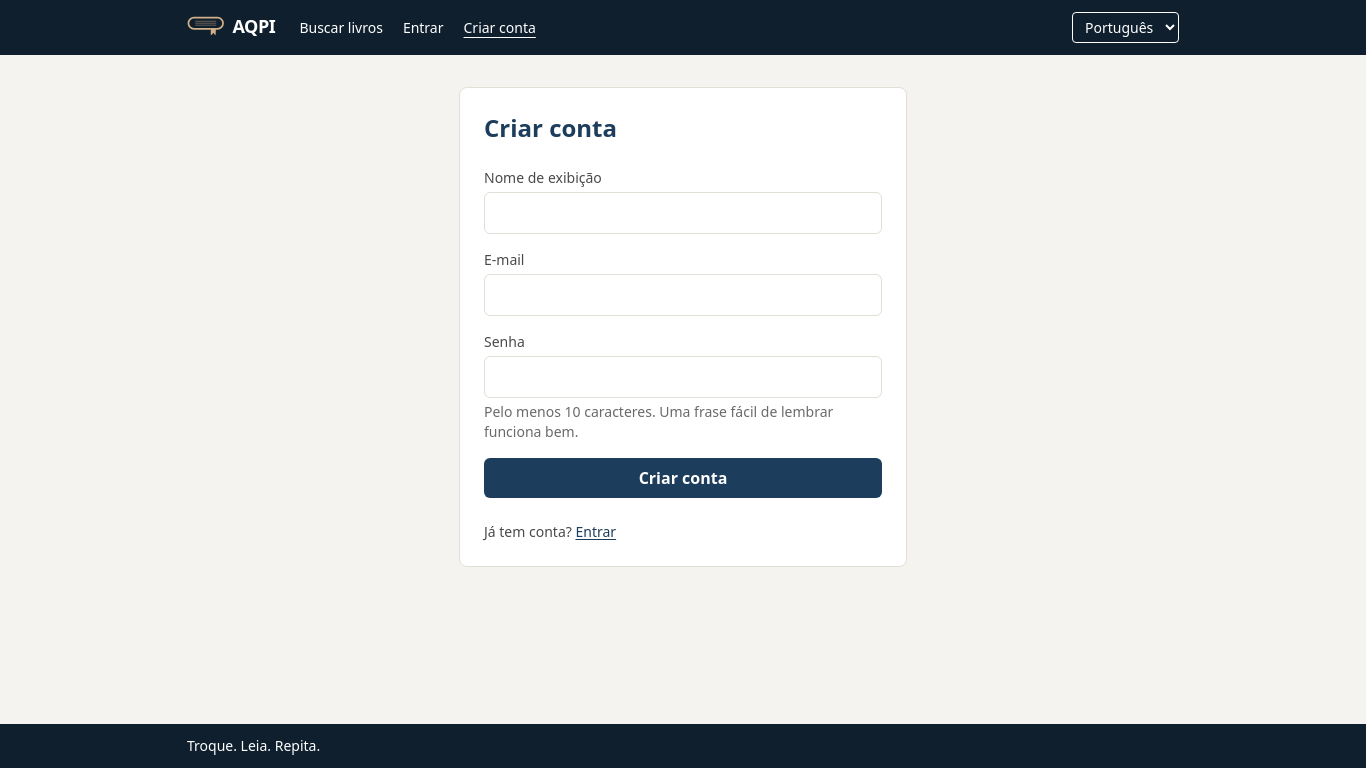
Test: registration › mirrors the server password rule on the client
Step 1. Type "short" into the password field labelled "Senha" → [683, 377], box [484,356,882,398]
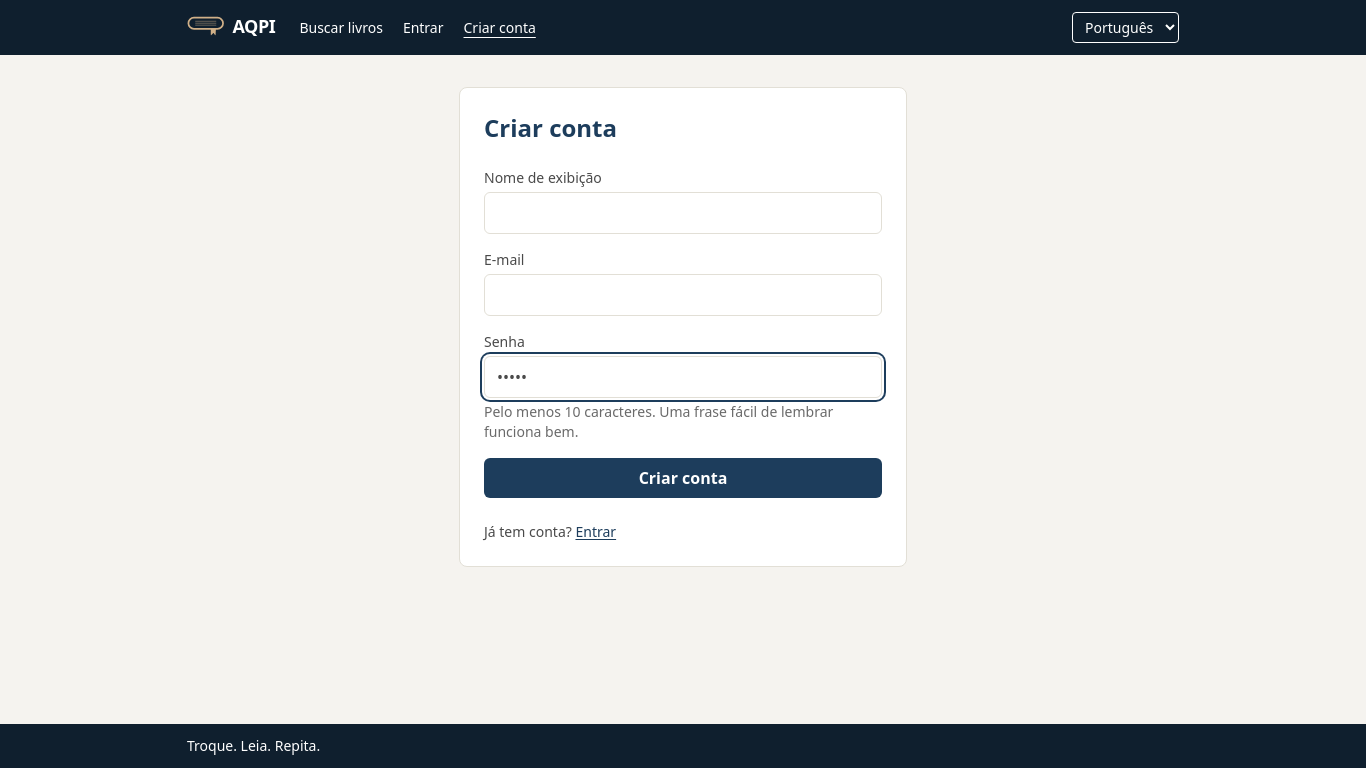
Step 2. Click the button "Criar conta" → [683, 478], box [484,458,882,498]
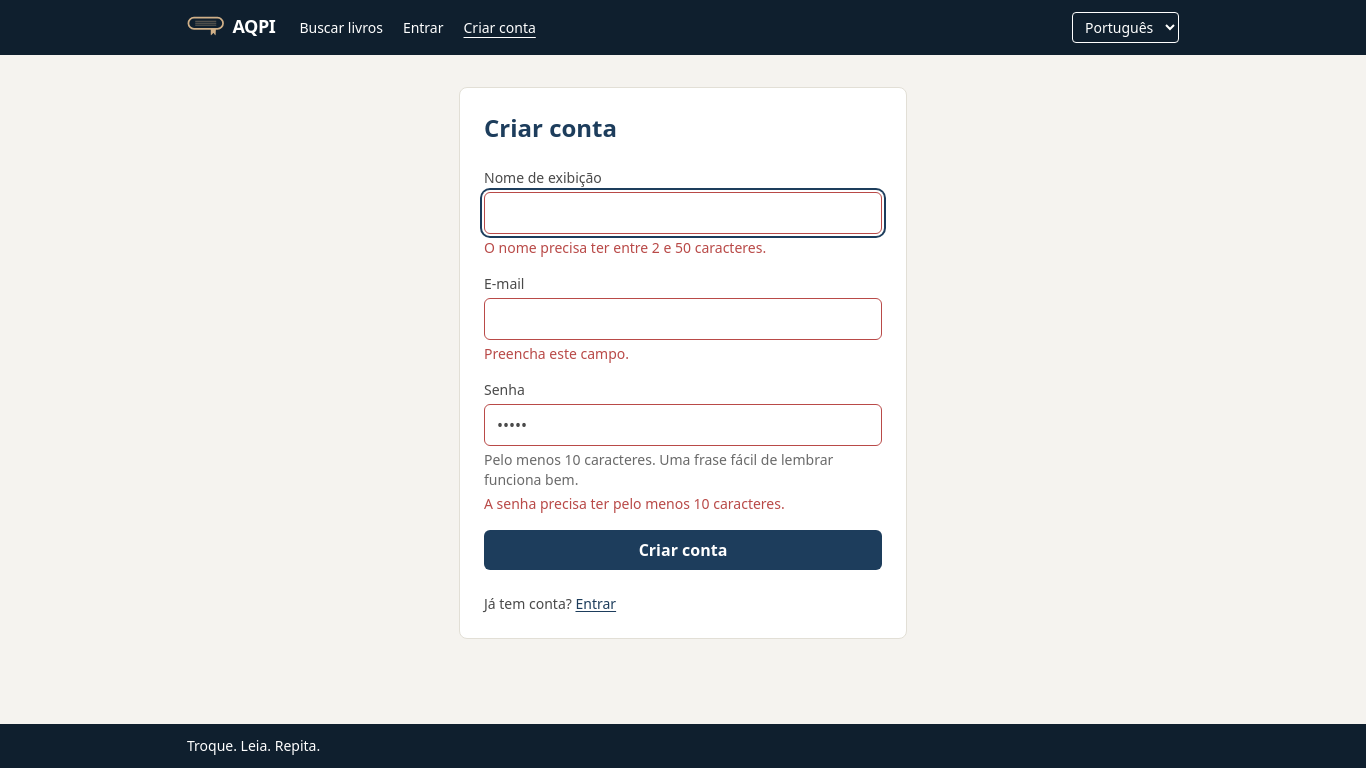
Now the text "A senha precisa ter pelo menos 10 caracteres." is shown, box [484,494,785,513]
